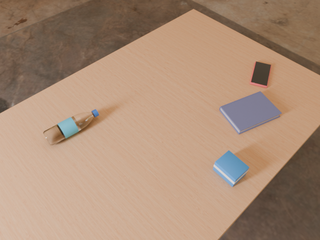book: (220, 91, 282, 134)
bottle: (43, 109, 99, 145)
box: (213, 150, 249, 187)
phone: (250, 62, 271, 88)
